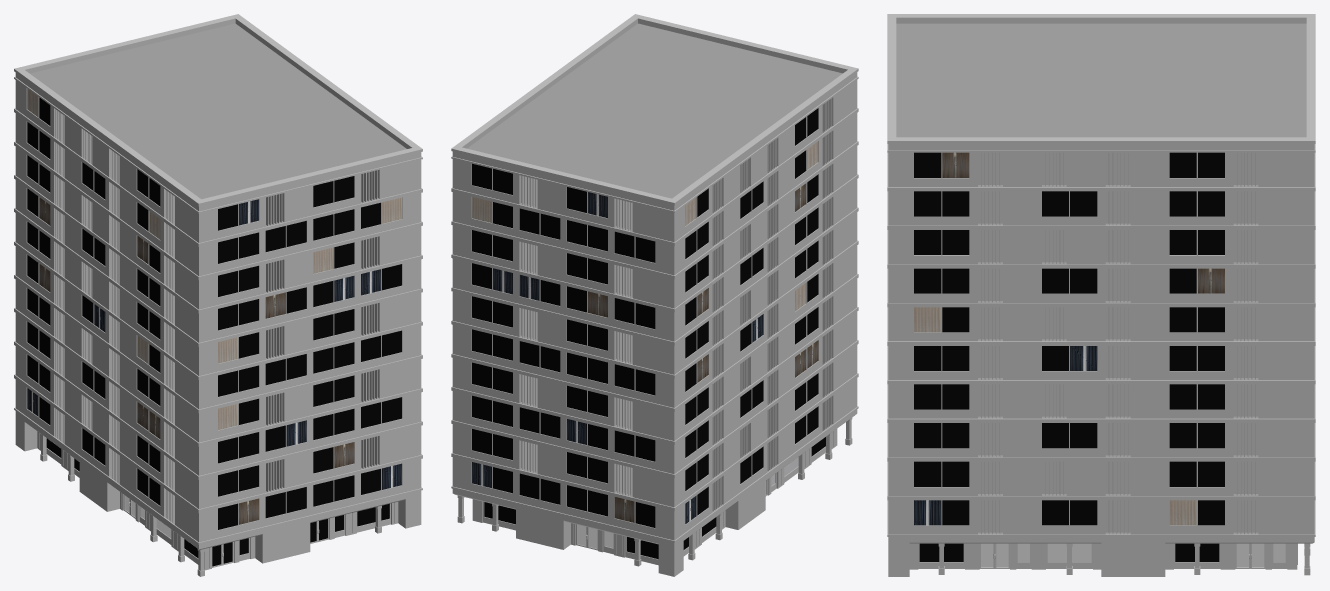
The model's file is Building08.fbx.
The picture shows the model from 3 angles, left to right: view 1: azimuth 30°, elevation 25°; view 2: azimuth 150°, elevation 25°; view 3: azimuth 270°, elevation 25°; orthographic projection. The views are drawn at different scales.
Visible parts, largest first — view 1: Building08; view 2: Building08; view 3: Building08.
Part boxes in pixels (x1,y1,x2,y2): Building08: [14, 14, 422, 576]; Building08: [451, 14, 858, 576]; Building08: [887, 14, 1315, 576].
Bounding box in the file's own units: 2823 × 4521 × 4023.
